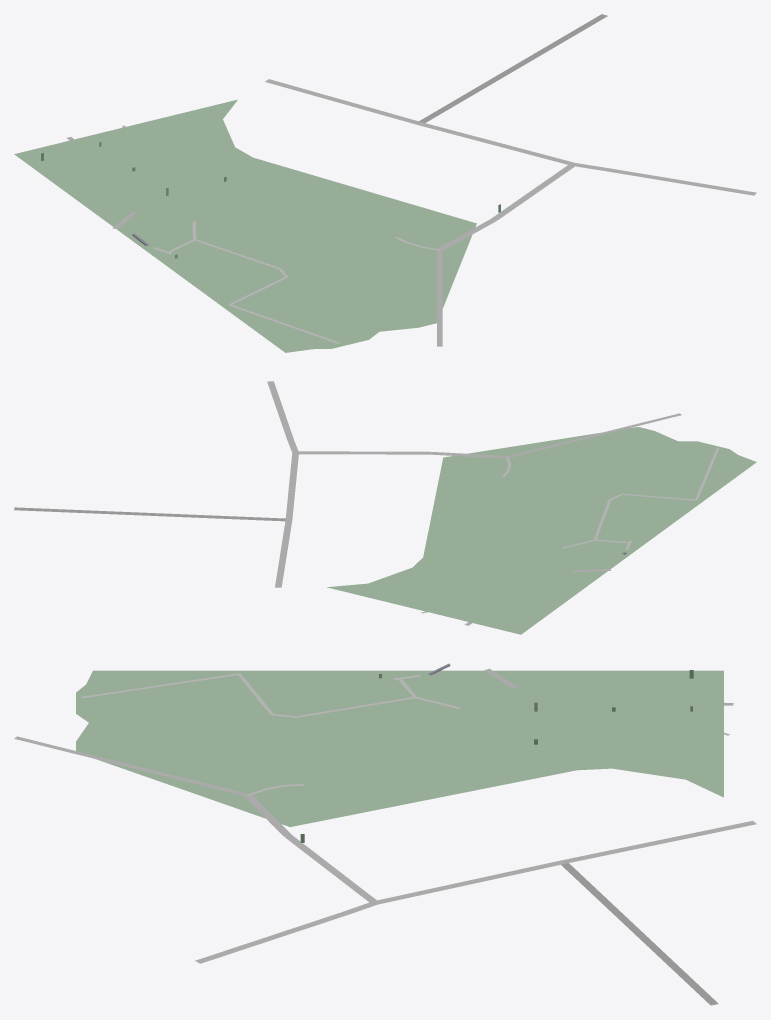
3 renders of one model, top to bottom at view 1: azimuth 30°, elevation 25°; view 2: azimuth 150°, elevation 25°; view 3: azimuth 270°, elevation 25°, orthographic. The views are drawn at different scales.
Size of the model in its own units: 612 by 9.04 by 573.
